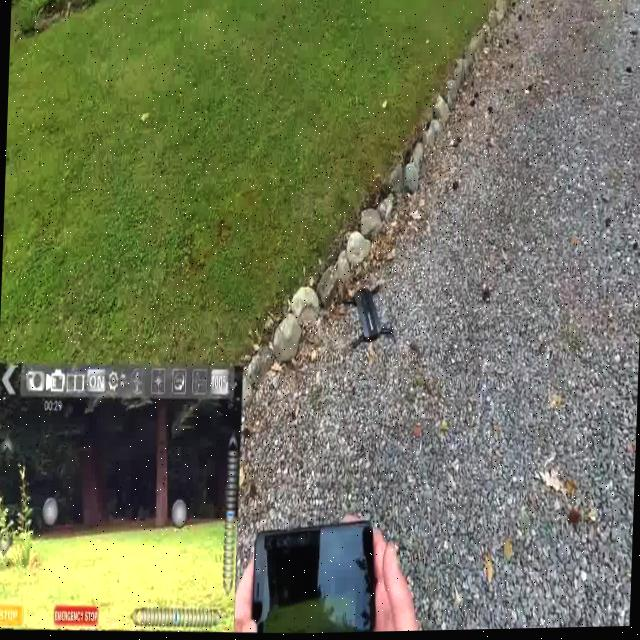drone: (306, 268, 421, 373)
